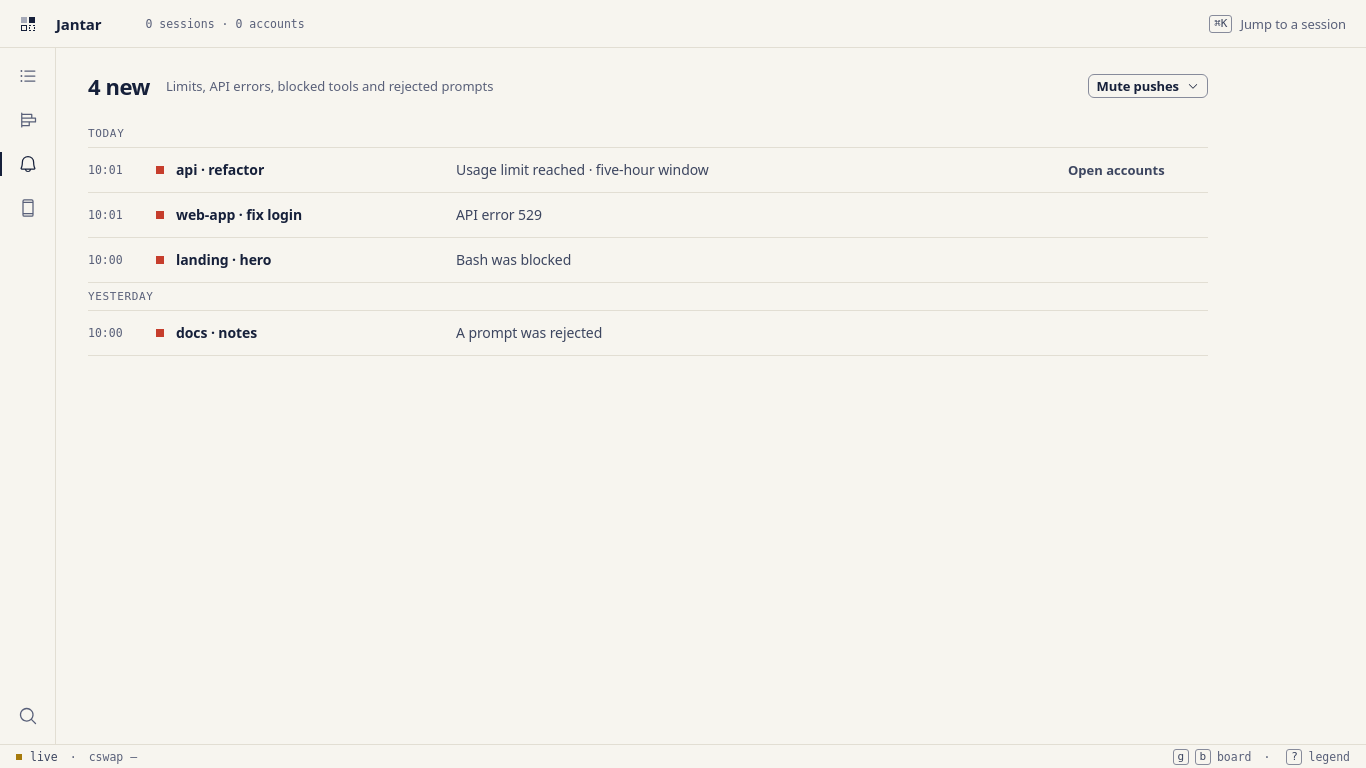
alerts screen › mutes and unmutes pushes from the header
Click the button "Mute pushes": (1148, 86) [1088,74,1208,98]
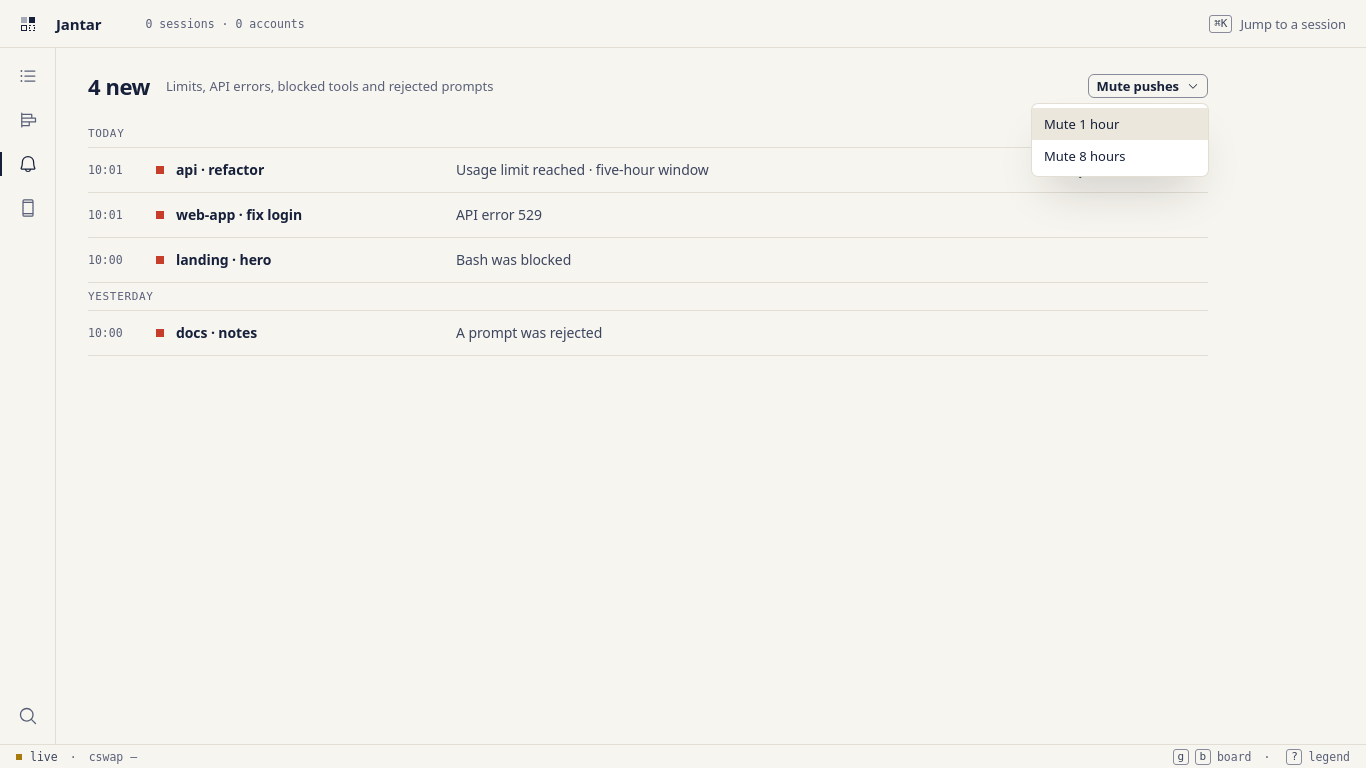
Click the menu item "Mute 1 hour": (1120, 124) [1032,108,1208,140]
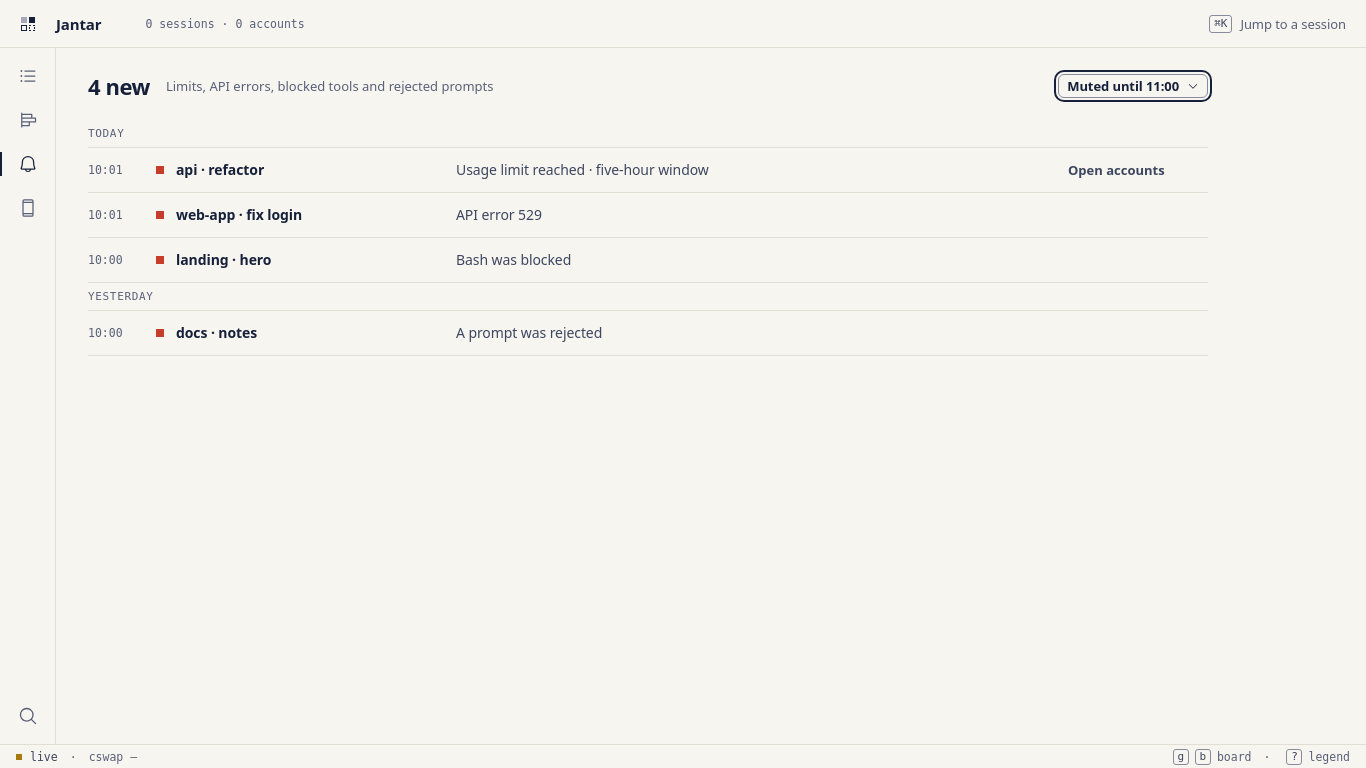
Click the button "Muted until 11:00": (1133, 86) [1058,74,1208,98]
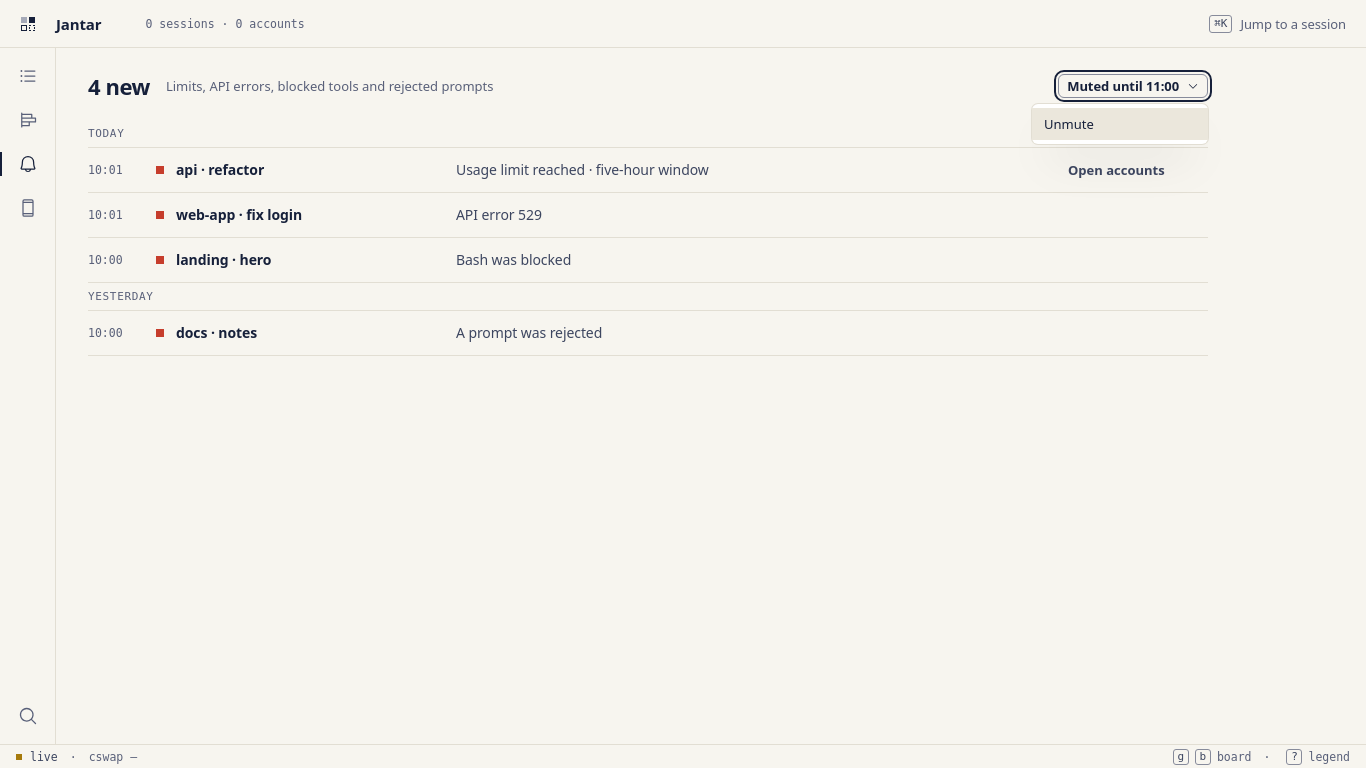
Expected: the menu item "Mute 8 hours" is not shown
Click the menu item "Unmute": (1120, 124) [1032,108,1208,140]
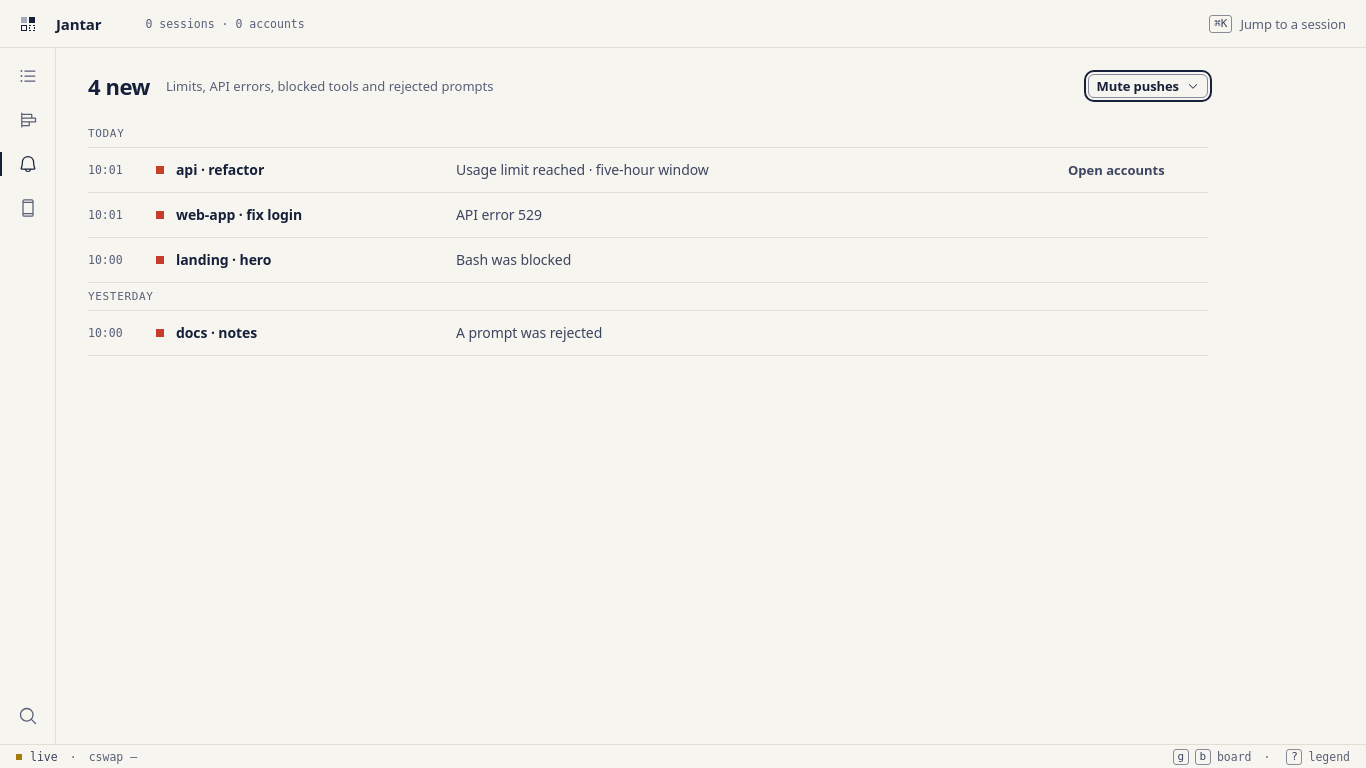
Expected: the button "Mute pushes" is shown, [1088,74,1208,98]
